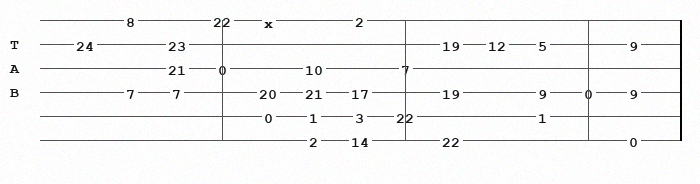0: (218, 62, 231, 75), (264, 110, 277, 123), (584, 86, 597, 99), (629, 134, 642, 147)
1: (309, 110, 322, 123), (538, 110, 551, 123)
10: (305, 62, 327, 75)
12: (488, 38, 510, 51)
14: (351, 134, 373, 147)
17: (351, 86, 373, 99)
19: (442, 86, 464, 99), (442, 38, 464, 51)
2: (309, 134, 322, 147), (355, 14, 368, 27)
20: (259, 86, 281, 99)
21: (168, 62, 190, 75), (305, 86, 327, 99)
22: (213, 14, 235, 27), (396, 110, 418, 123), (442, 134, 464, 147)
23: (168, 38, 190, 51)
24: (76, 38, 98, 51)
3: (355, 110, 368, 123)
5: (538, 38, 551, 51)
7: (126, 86, 139, 99), (172, 86, 185, 99), (401, 62, 414, 75)
8: (126, 14, 139, 27)
9: (538, 86, 551, 99), (629, 38, 642, 51), (629, 86, 642, 99)
x: (264, 15, 277, 25)
